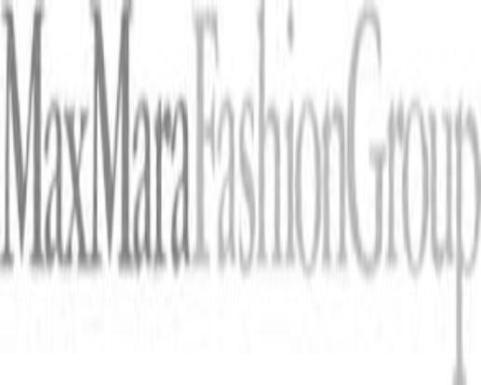MAX-MARA: (0, 1, 190, 265)
